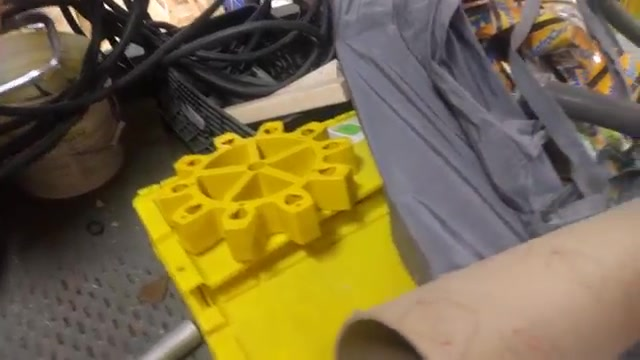gear: (159, 114, 363, 260)
